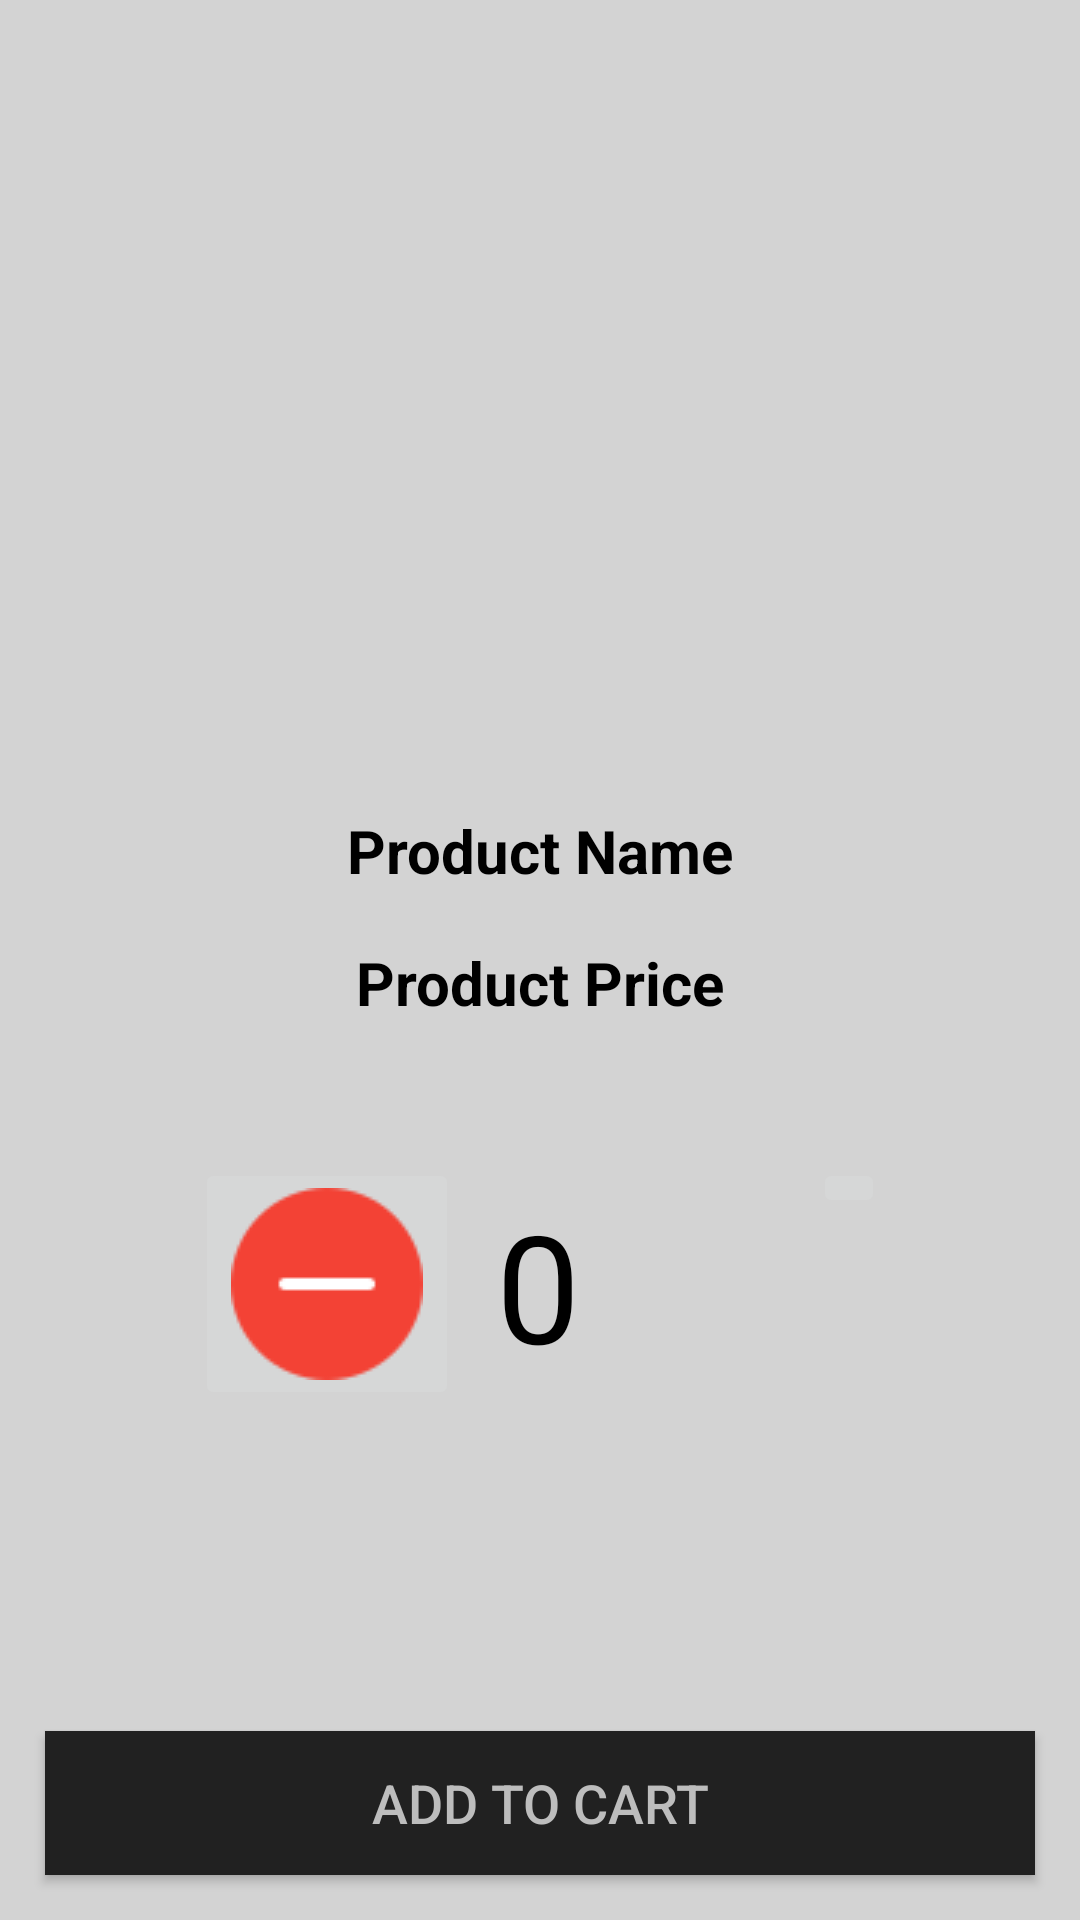

Icons on this 1080 × 1920 Android screen, each with the point to tap as (x=x, y=y):
minus: (x=327, y=1284)
